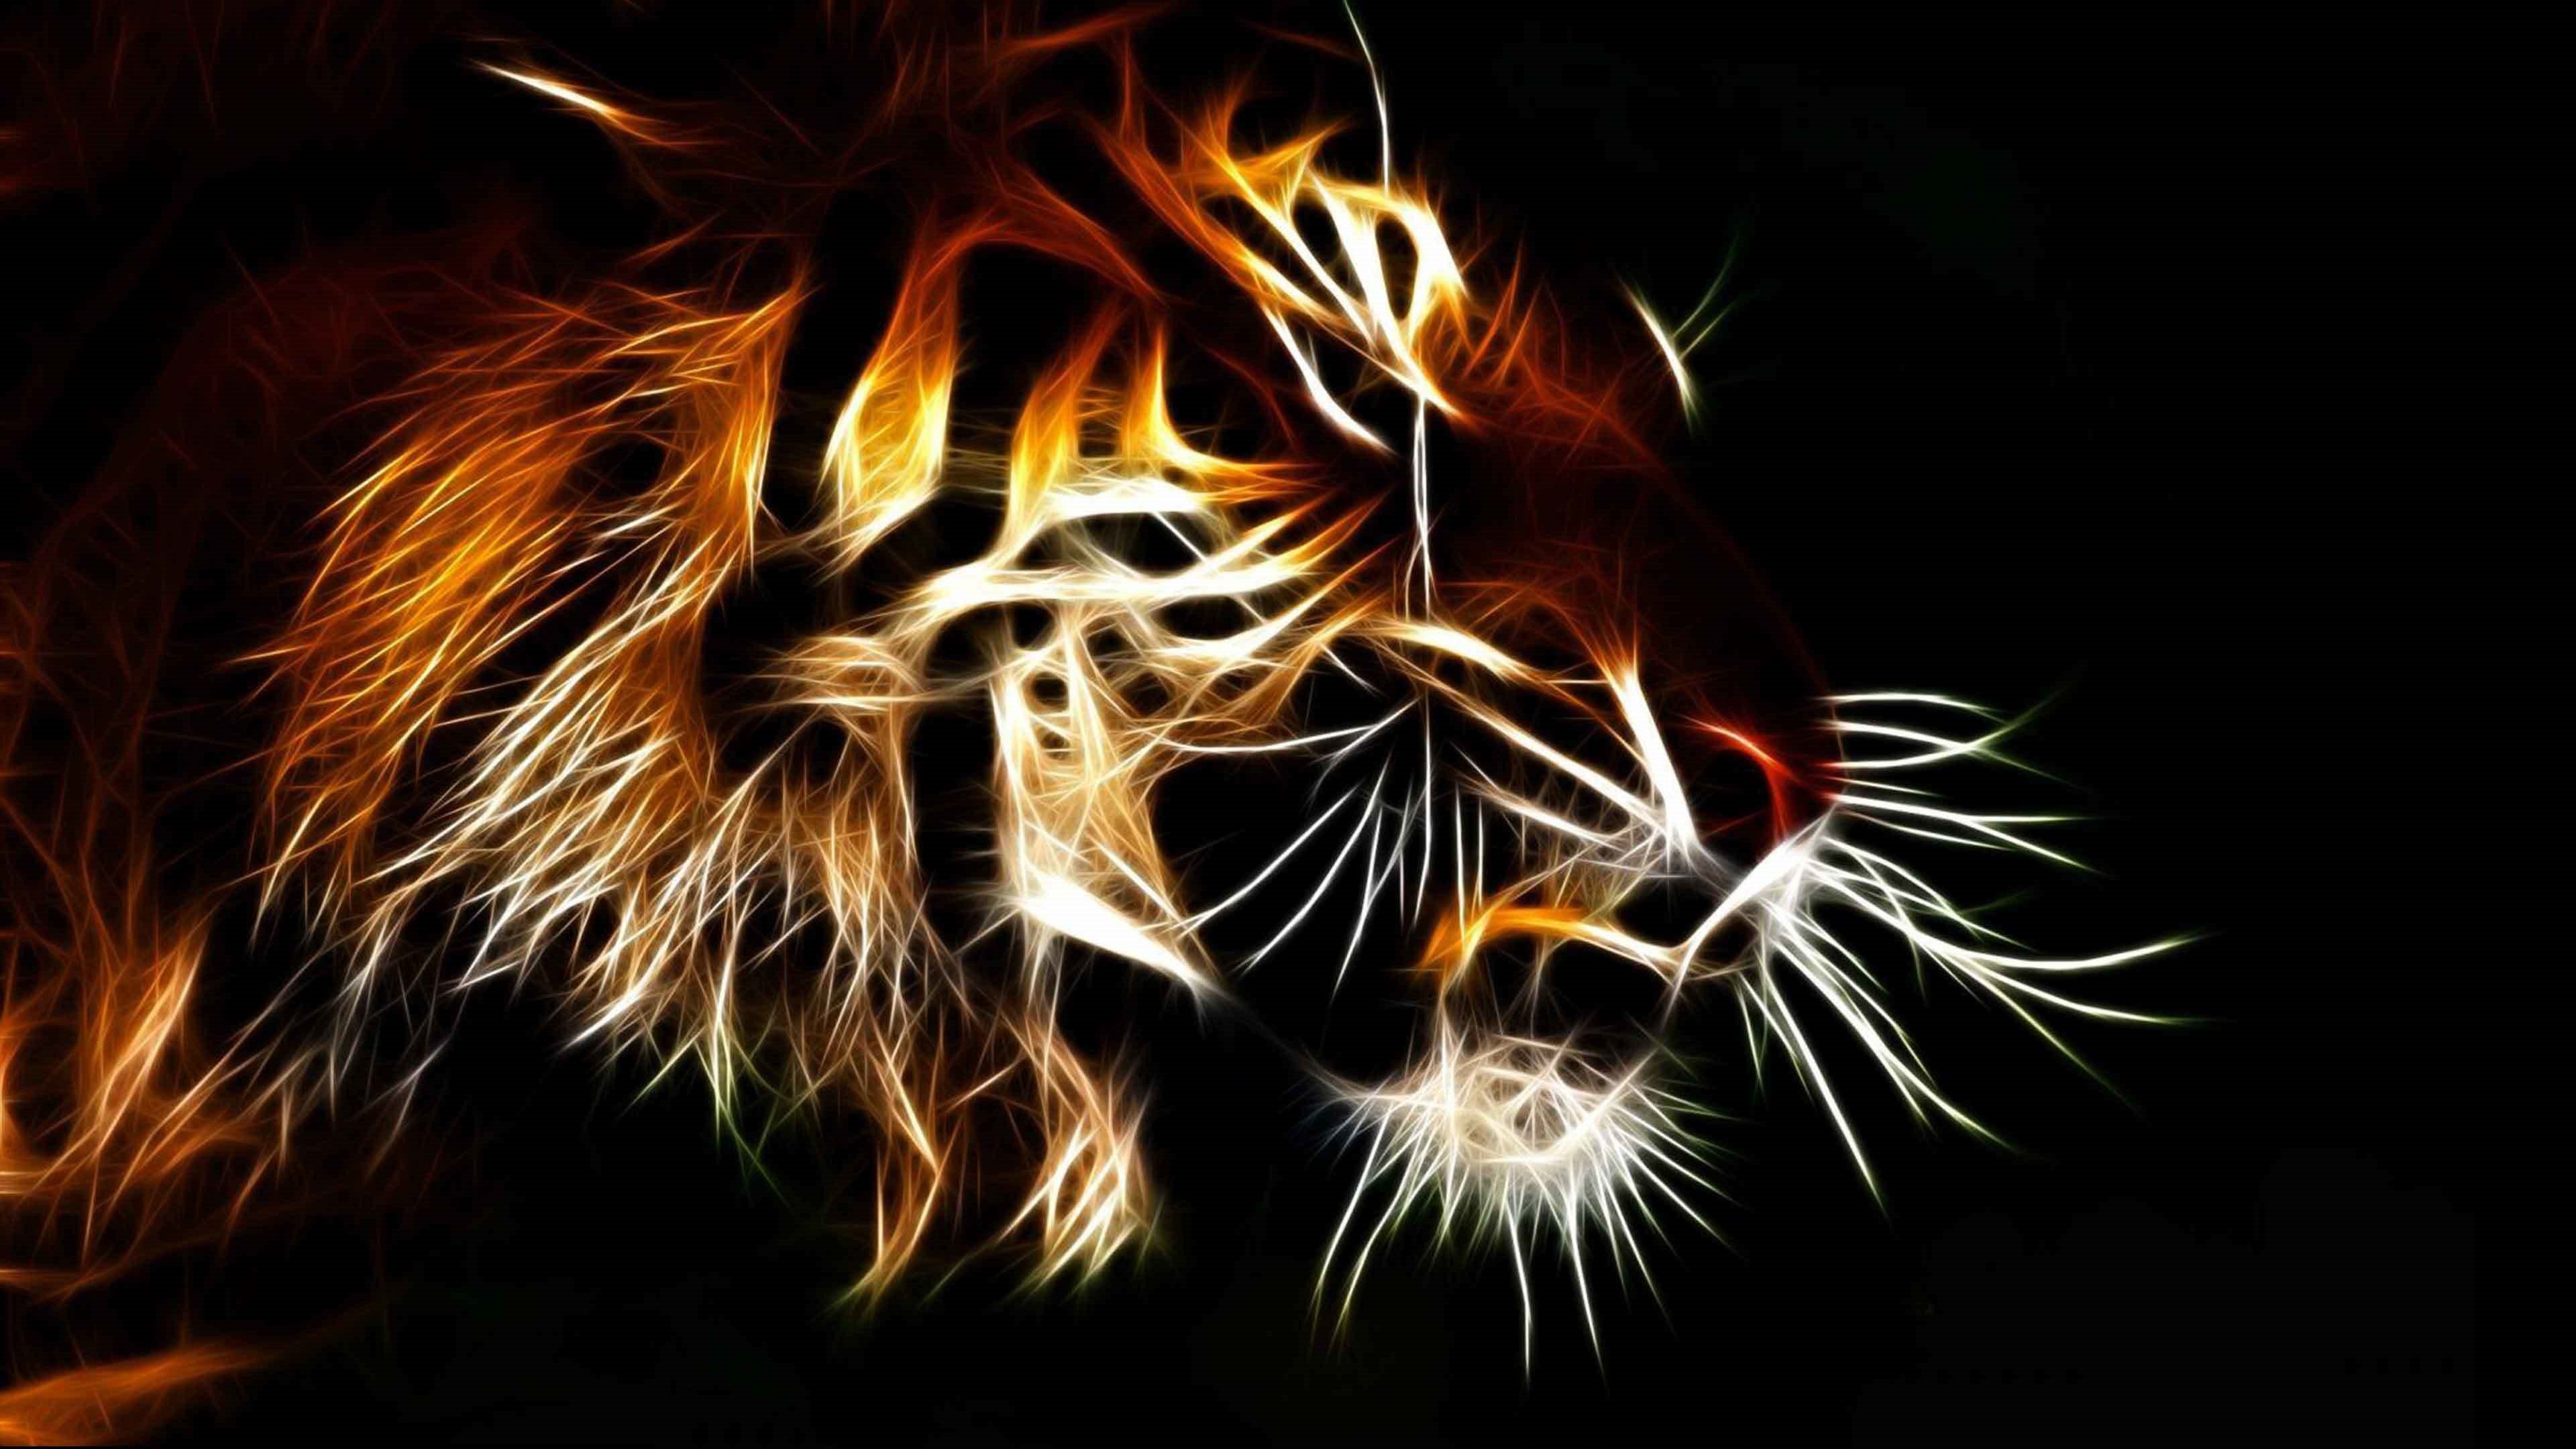Tigrew: (237, 35, 2137, 1323)
